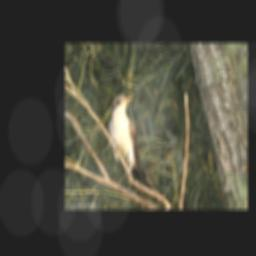Cuckoo: (106, 92, 164, 201)
